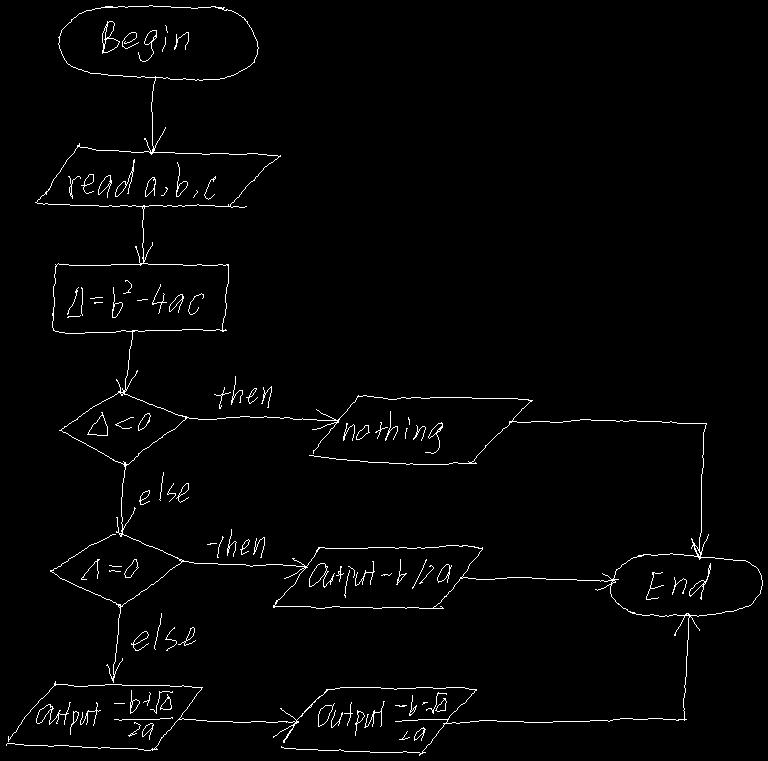arrow: (443, 613, 699, 723), (509, 419, 708, 559), (178, 708, 298, 737), (185, 409, 339, 429), (460, 573, 618, 590), (179, 558, 307, 578), (144, 76, 165, 154), (116, 462, 135, 536), (116, 330, 137, 395), (106, 604, 122, 682), (135, 205, 152, 265)
data: (35, 143, 280, 207), (309, 395, 532, 464), (6, 681, 202, 750), (281, 687, 476, 755), (273, 545, 482, 608)
decision: (50, 531, 183, 607), (59, 391, 187, 466)
process: (52, 263, 228, 333)
terminator: (58, 5, 258, 80), (610, 553, 762, 616)
text: (36, 690, 172, 739), (318, 692, 447, 740), (68, 159, 215, 199), (309, 559, 451, 597), (67, 280, 203, 317), (343, 411, 442, 453), (102, 21, 188, 61), (131, 613, 195, 650), (646, 563, 710, 599), (214, 376, 271, 408), (207, 529, 264, 557), (139, 472, 188, 504), (87, 412, 150, 435), (81, 559, 138, 579)
